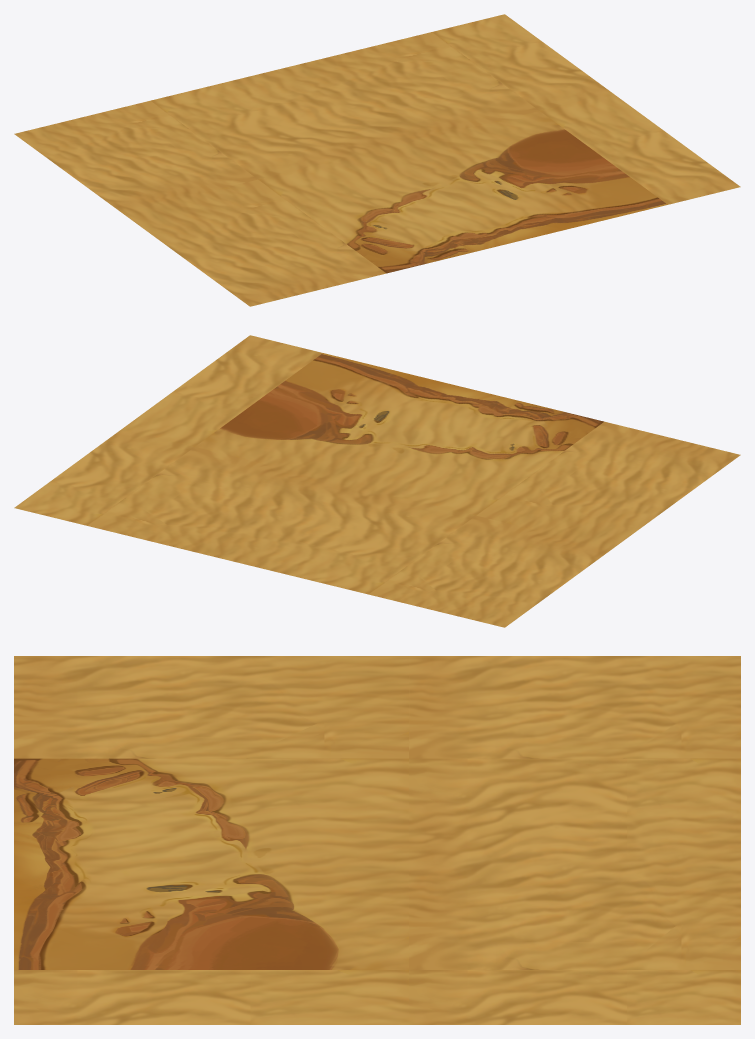
The model's file is Desert_land_01.fbx.
3 renders of one model, top to bottom at view 1: azimuth 30°, elevation 25°; view 2: azimuth 150°, elevation 25°; view 3: azimuth 270°, elevation 25°, orthographic. The views are drawn at different scales.
Parts seen in each view (by area): view 1: Desert_land_01; view 2: Desert_land_01; view 3: Desert_land_01.
Boxes of the visible parts, x1,y1,x2,y2 form: Desert_land_01: [14, 14, 740, 306]; Desert_land_01: [14, 335, 740, 627]; Desert_land_01: [14, 656, 740, 1024].
Size of the model in its own units: 4183 by 0.000149 by 3486.
